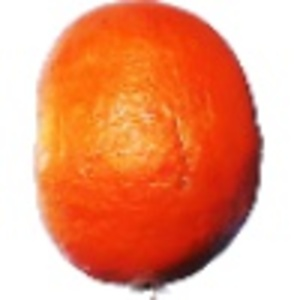tangerina: (32, 1, 266, 300)
